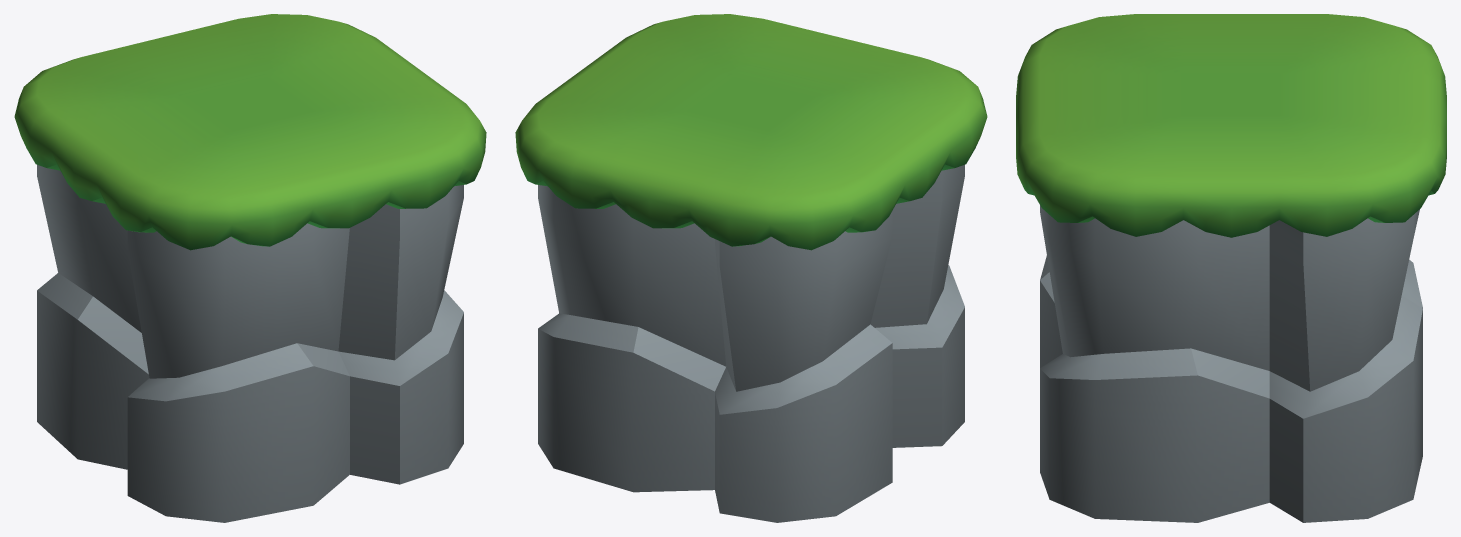
The model's file is Hill_4x4x4_Color1.gltf.
3 views of the same model, side by side, from view 1: azimuth 30°, elevation 25°; view 2: azimuth 150°, elevation 25°; view 3: azimuth 270°, elevation 25° (orthographic). The views are drawn at different scales.
Parts seen in each view (by area): view 1: Hill_4x4x4_Color1; view 2: Hill_4x4x4_Color1; view 3: Hill_4x4x4_Color1.
Part boxes in pixels (x1,y1,x2,y2): Hill_4x4x4_Color1: (14, 14, 486, 522); Hill_4x4x4_Color1: (515, 14, 987, 522); Hill_4x4x4_Color1: (1016, 14, 1446, 522).
Bounding box in the file's own units: 4.5 × 4 × 4.5.
1 material, 1 textured.
